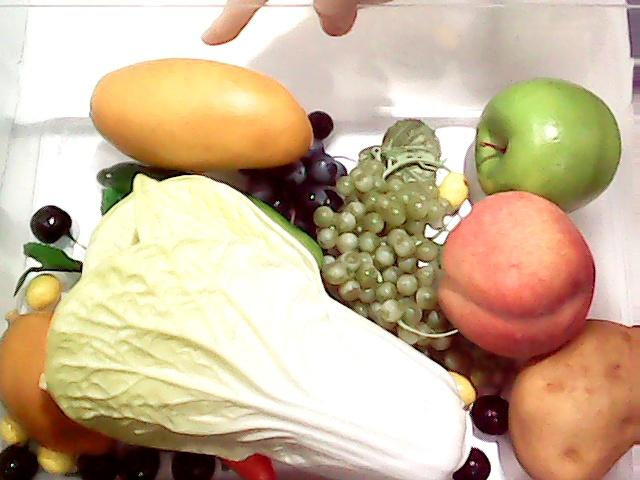apple: (472, 73, 622, 213)
carrot: (218, 440, 278, 480)
grape: (280, 153, 456, 354), (244, 147, 348, 228)
lemon: (0, 303, 120, 465)
mango: (80, 52, 324, 178)
napa cabbage: (43, 175, 464, 480)
peach: (440, 191, 600, 363)
pepper: (93, 152, 330, 288)
potato: (506, 319, 640, 480)
